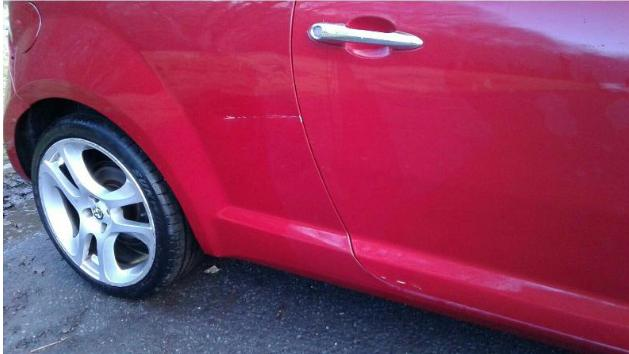Back-bumper: (2, 66, 31, 183)
Back-wheel: (32, 112, 204, 298)
Front-door: (292, 1, 628, 353)
Quarter-panel: (11, 0, 344, 257)
Rocker-panel: (211, 206, 616, 353)
